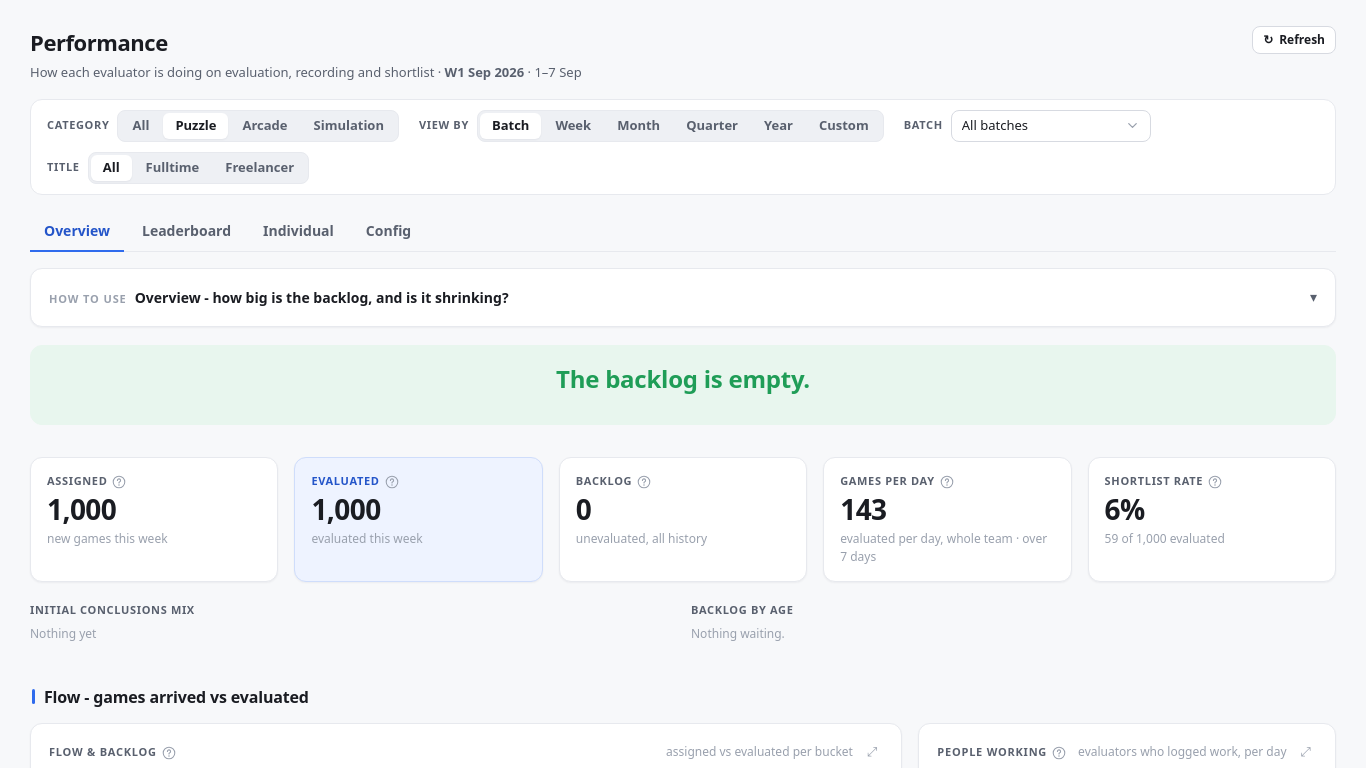
Test: Config tab: sections, live rules, one save bar › draws every rule against this window and re-reads it as the slider moves
The image size is (1366, 768).
Click the button "Config". click: (388, 231)
box: [352,210,425,252]
(page scrolled)
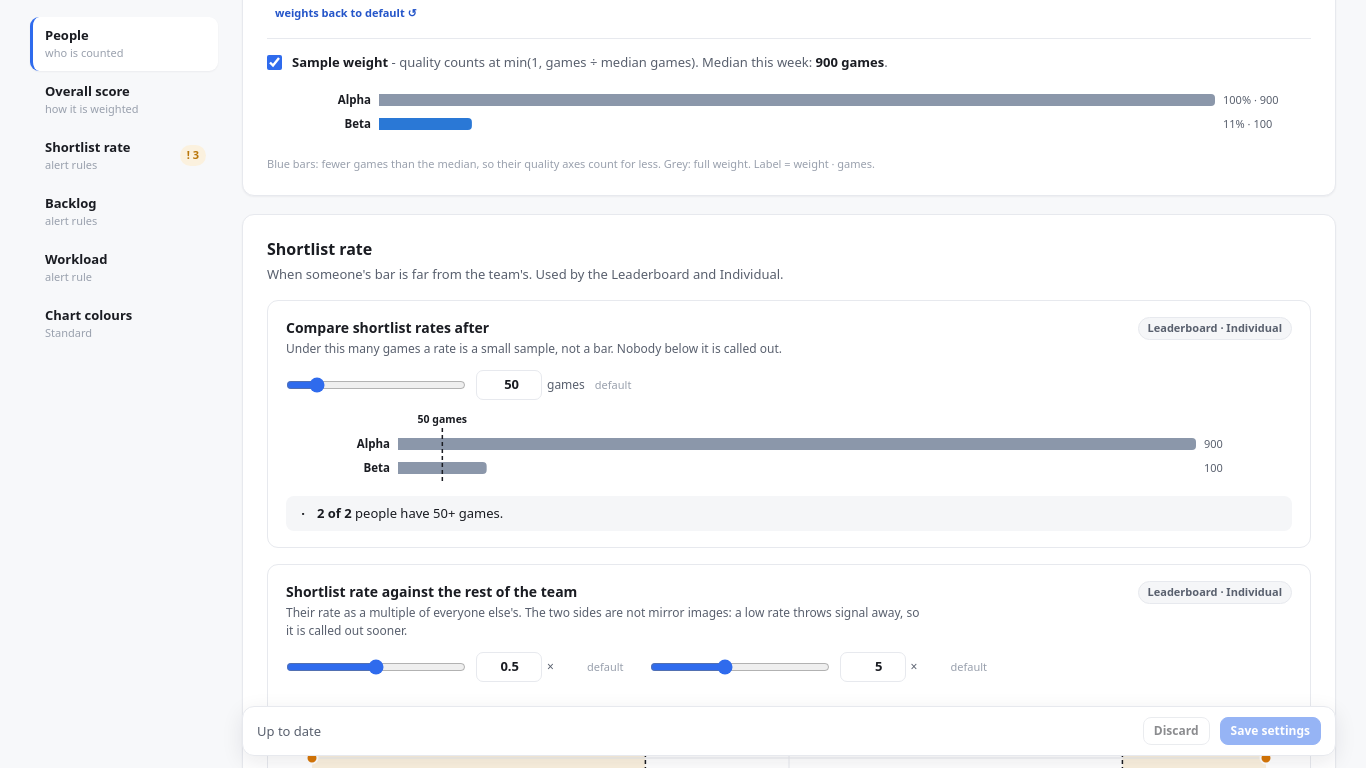
Replace the text in the number field named "Compare shortlist rates after" with "200". click: (509, 385)
box: [476,370,542,400]
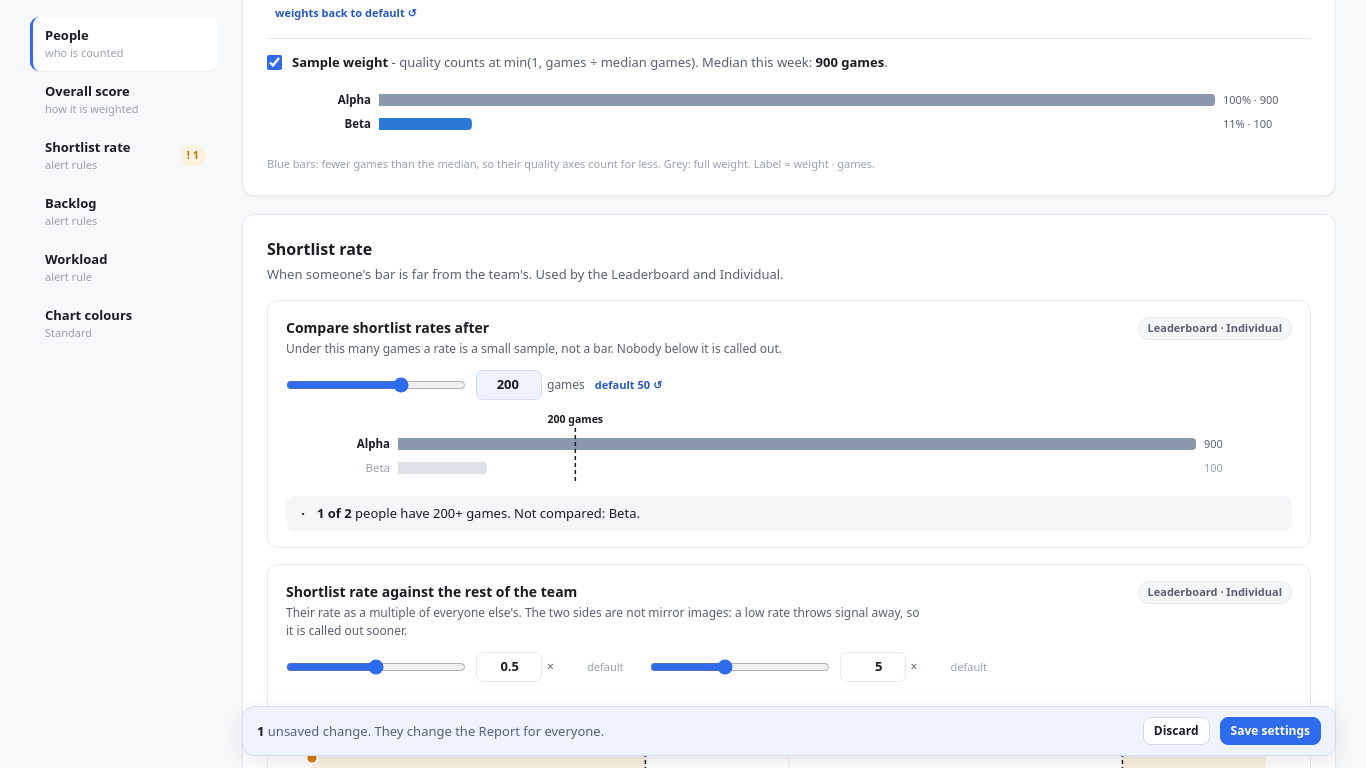
Check: the element with class "rv-rule-verdict" does not show "Beta"
Check: the number of number fields is 10
Check: the element with class "rv-rule-verdict" shows "Not compared: Beta", box [286,496,1292,531]
